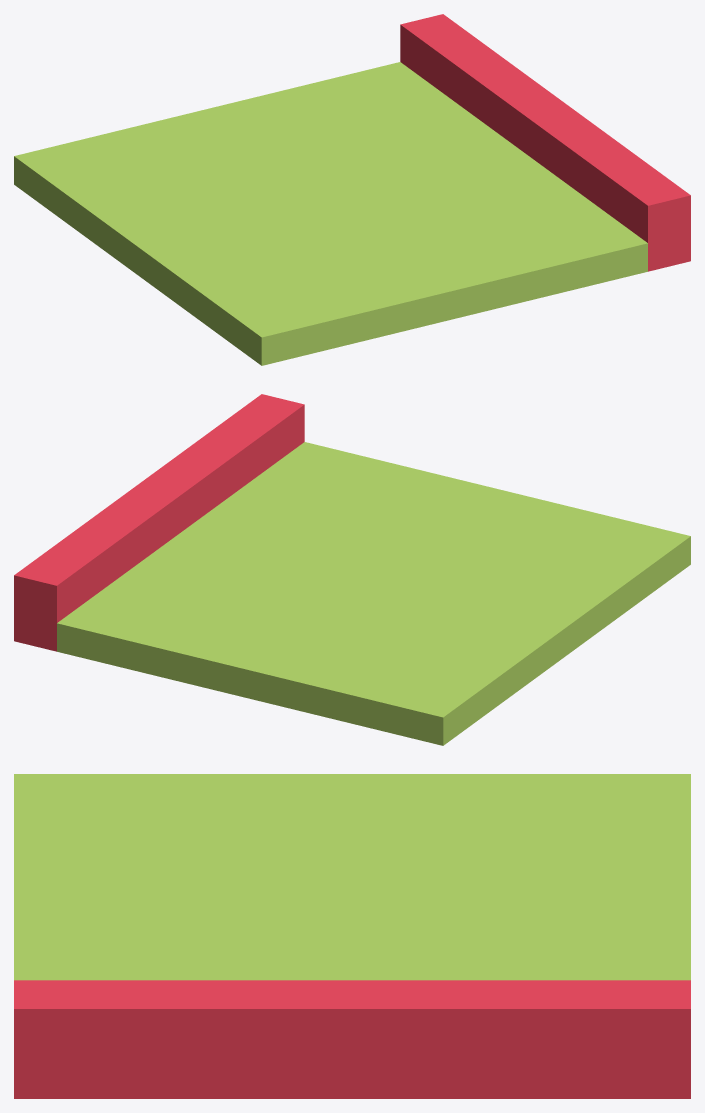
Rendered from side.fbx.
3 views of the same model, one above another, from view 1: azimuth 30°, elevation 25°; view 2: azimuth 150°, elevation 25°; view 3: azimuth 270°, elevation 25° (orthographic). The views are drawn at different scales.
Visible parts, largest first — view 1: side; view 2: side; view 3: side.
Boxes of the visible parts, x1,y1,x2,y2 form: side: (14, 14, 690, 365); side: (14, 394, 690, 745); side: (14, 774, 690, 1098).
Bounding box in the file's own units: 10 × 1.47 × 10.
